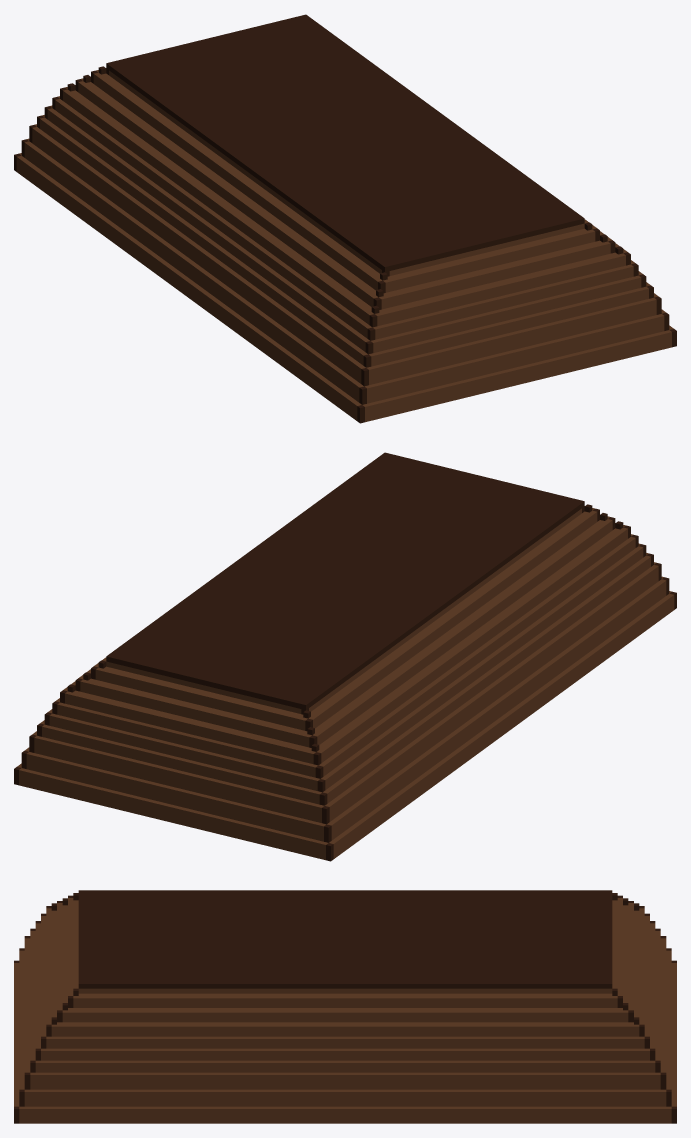
File: roof_simple_brown_rectangular.glb
3 views of the same model, one above another, from view 1: azimuth 30°, elevation 25°; view 2: azimuth 150°, elevation 25°; view 3: azimuth 270°, elevation 25° (orthographic). The views are drawn at different scales.
Parts seen in each view (by area): view 1: roof_simple_brown_rectangular; view 2: roof_simple_brown_rectangular; view 3: roof_simple_brown_rectangular.
Boxes of the visible parts, x1,y1,x2,y2 form: roof_simple_brown_rectangular: [14, 14, 676, 423]; roof_simple_brown_rectangular: [14, 452, 676, 861]; roof_simple_brown_rectangular: [14, 890, 676, 1123].
Bounding box in the file's own units: 6.5 × 2.3 × 12.3.
1 material, 1 textured.
